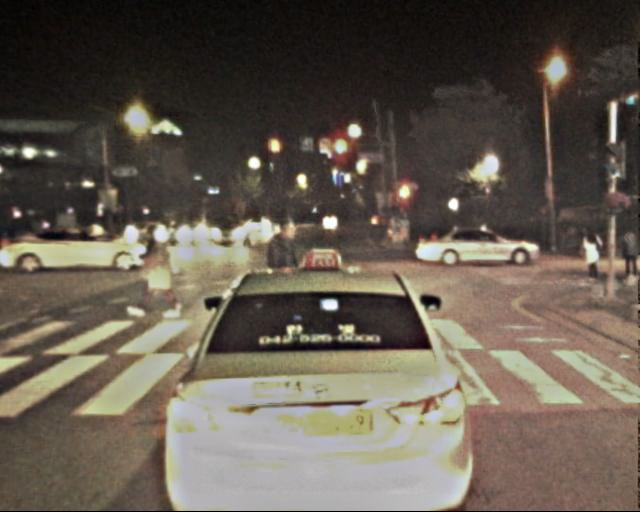person: (262, 217, 311, 337), (137, 221, 176, 317), (580, 226, 605, 287), (618, 227, 640, 281)
